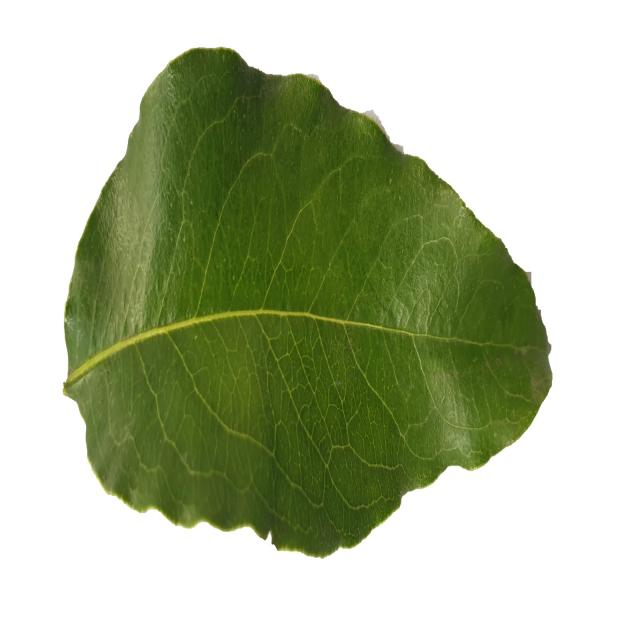Medicinal-Sandalwood: (60, 47, 554, 561)
